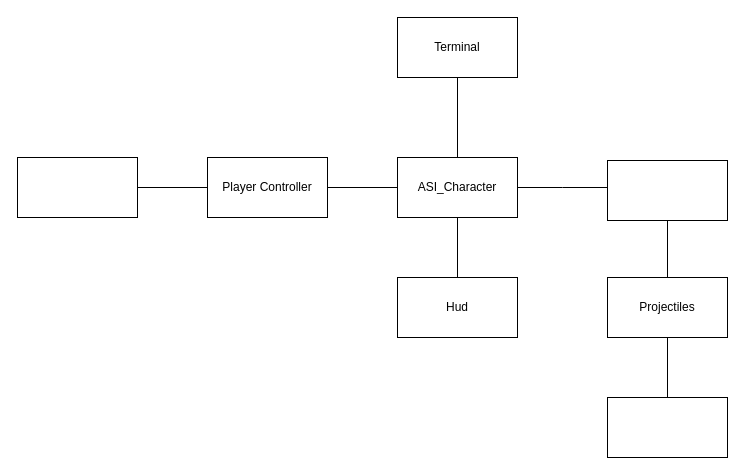
This 745x475 diagram has some shape labels left out. Each missing label, with the box of its shape:
Enemies: (606, 396, 728, 458)
Player State: (16, 156, 138, 218)
Weapons: (606, 160, 728, 220)
